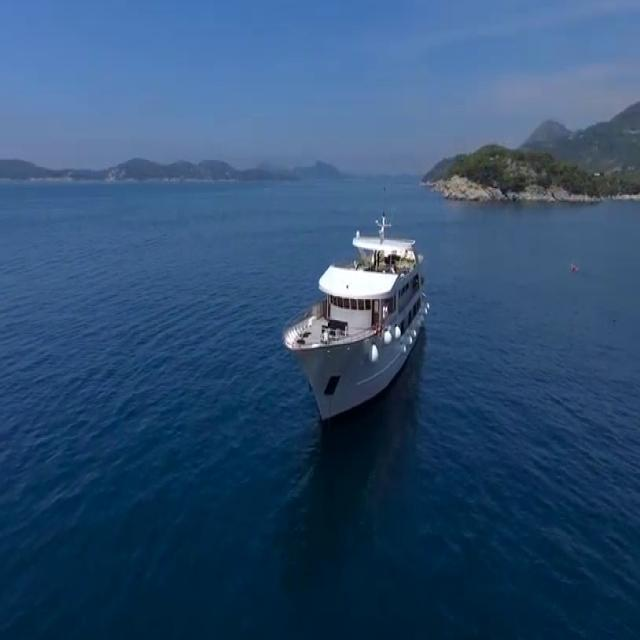passenger ship: (271, 211, 428, 425)
